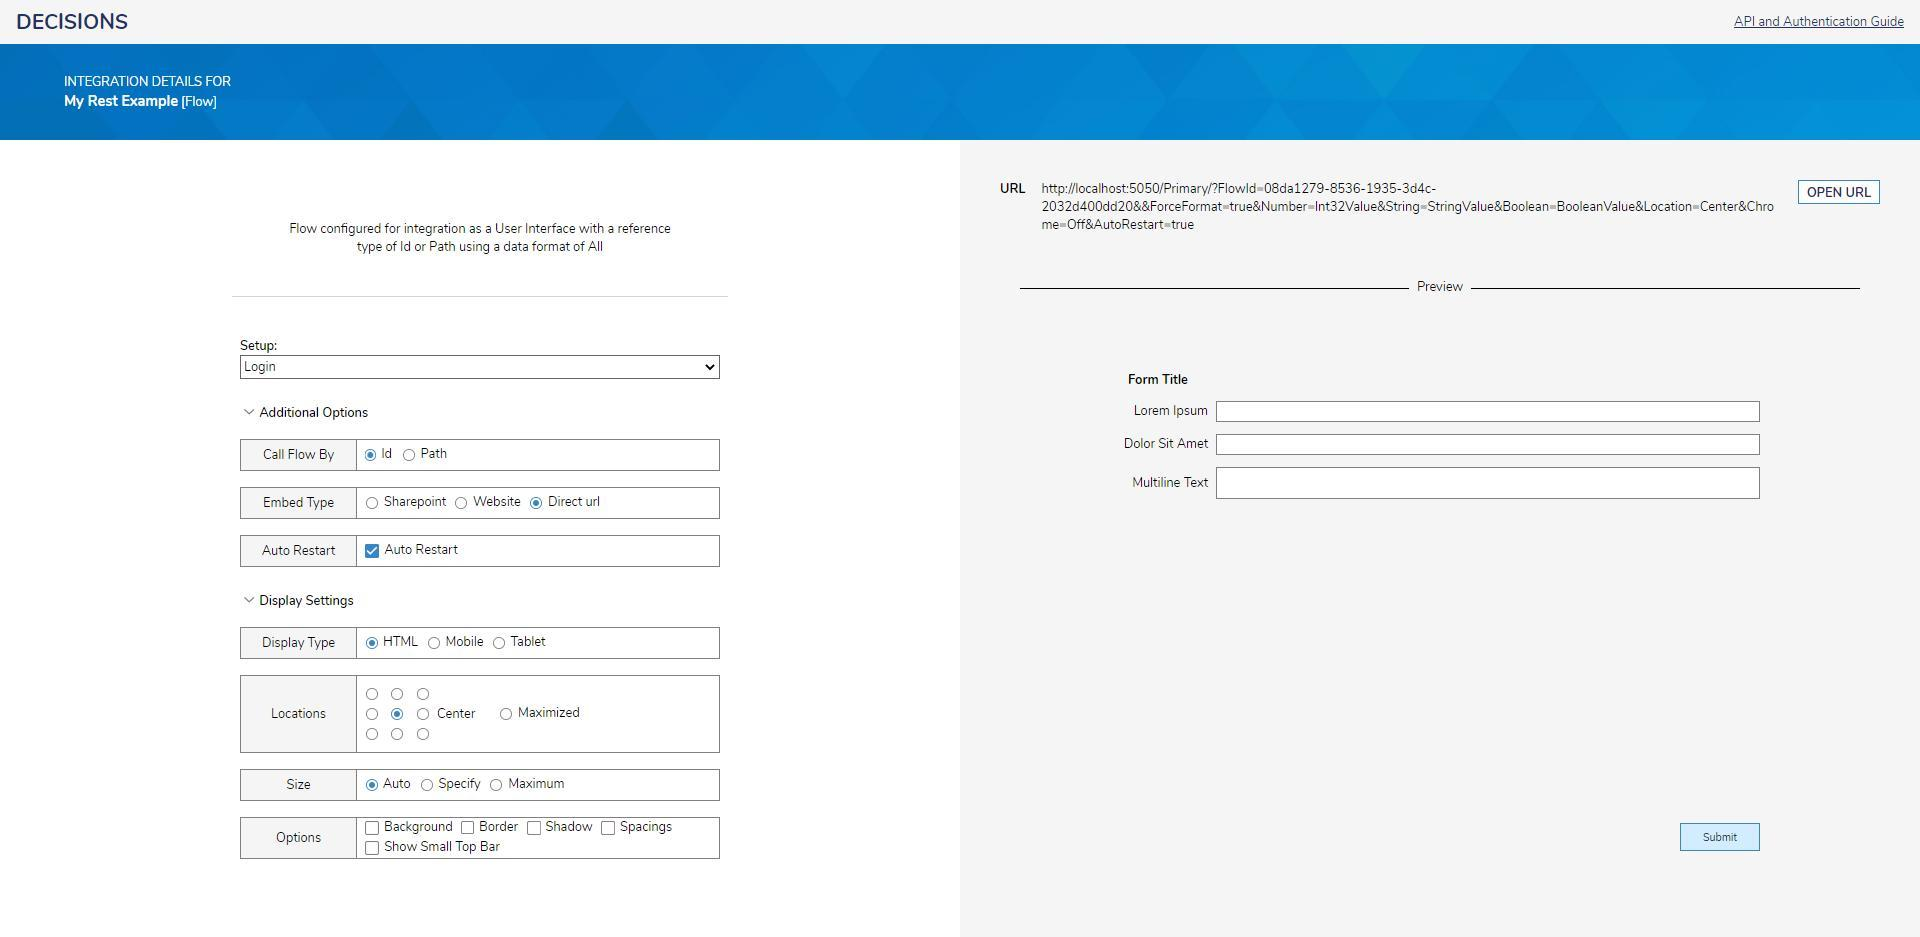button: (1681, 824, 1761, 852), (1800, 183, 1880, 205)
checkbox: (366, 545, 381, 560), (528, 822, 542, 837), (366, 841, 380, 857), (366, 822, 380, 837), (602, 822, 616, 837), (462, 822, 475, 835)
dropdown: (241, 356, 721, 380), (242, 405, 258, 419), (242, 596, 257, 608)
input: (1218, 469, 1760, 499), (1218, 435, 1761, 456), (1217, 403, 1761, 423)
label: (260, 405, 373, 421), (384, 839, 506, 854), (1120, 435, 1211, 454), (260, 593, 358, 609), (1131, 474, 1210, 494), (262, 446, 337, 465), (260, 634, 338, 653), (1134, 403, 1211, 421), (1125, 370, 1195, 389), (262, 544, 339, 560), (264, 495, 336, 512), (384, 544, 460, 559), (269, 706, 329, 724), (517, 706, 582, 721), (506, 777, 568, 792), (386, 495, 449, 510), (547, 495, 602, 511), (384, 821, 456, 833), (622, 821, 675, 837), (473, 494, 522, 510), (277, 830, 322, 848), (547, 819, 594, 835), (440, 777, 482, 792), (444, 634, 486, 650), (509, 634, 551, 650), (382, 633, 420, 650), (998, 178, 1027, 198), (435, 708, 478, 721), (479, 821, 520, 834), (240, 341, 279, 354), (419, 447, 451, 461), (287, 778, 313, 792), (382, 778, 411, 790), (378, 446, 396, 462)
radio: (391, 728, 404, 742), (493, 637, 507, 650), (501, 708, 514, 721), (418, 688, 431, 702), (366, 708, 380, 721), (491, 779, 504, 792), (366, 450, 378, 463), (405, 450, 418, 463), (366, 499, 380, 511), (367, 688, 380, 702), (391, 688, 404, 701), (418, 708, 430, 721), (367, 728, 380, 741), (418, 729, 430, 742), (366, 780, 380, 792), (422, 779, 435, 792), (367, 638, 380, 650), (429, 638, 441, 650), (392, 709, 404, 721), (456, 499, 469, 510), (531, 499, 542, 510)
